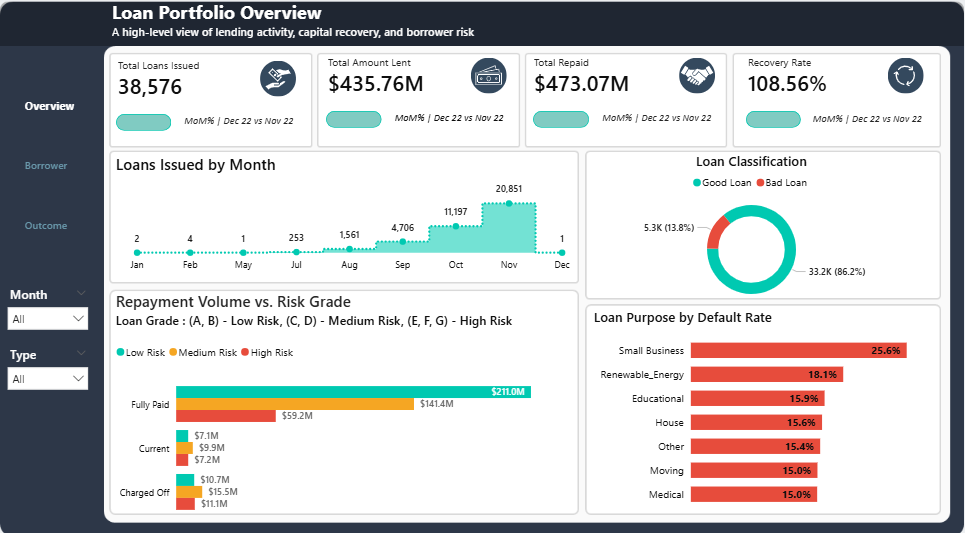

What the dashboard file says about the page in this screenshot:
{"tool":"powerbi","page":{"name":"Overview ","canvas":[1280,720],"ordinal":0},"visuals":[{"type":"cardVisual","fields":{"Data":["_Measures.Total Amount Lent"]},"box":[420.5,70.6,268.6,125.3],"z":0,"group":"g1"},{"type":"group","id":"g1","title":"Group 4","box":[420.5,70.6,268.6,125.3],"z":0,"group":"g2"},{"type":"group","id":"g2","title":"Amount Lent","box":[420.5,70.6,269.3,125.3],"z":0},{"type":"group","id":"g3","title":"Group 4","box":[689.8,70.6,271.5,125.7],"z":0,"group":"g12"},{"type":"cardVisual","fields":{"Data":["_Measures.Total Repaid"]},"box":[689.8,70.6,271.3,125.3],"z":0,"group":"g3"},{"type":"cardVisual","fields":{"Data":["_Measures.Recovery Rate"]},"box":[970.6,70.6,264.7,125.7],"z":0,"group":"g4"},{"type":"group","id":"g4","title":"Group 4","box":[970.6,70.6,259.3,125.7],"z":0,"group":"g11"},{"type":"group","id":"g5","title":"Group 4","box":[145.1,74.7,267.1,125.7],"z":0,"group":"g6"},{"type":"cardVisual","fields":{"Data":["_Measures.Total Loans Issued"]},"box":[145.1,74.7,267.2,125.3],"z":0,"group":"g5"},{"type":"shape","box":[435.9,150.6,72.8,21.9],"z":0,"group":"g7"},{"type":"shape","box":[705.4,150.6,73.5,21.9],"z":0,"group":"g8"},{"type":"shape","box":[985.8,150.9,71.7,22],"z":0,"group":"g9"},{"type":"shape","box":[160.4,154.7,72.4,21.9],"z":0,"group":"g10"},{"type":"card","fields":{"Values":["_Measure.Variance Period MoM"]},"box":[521.8,146.6,149.8,29.9],"z":1000,"group":"g1"},{"type":"card","fields":{"Values":["_Measure.Variance Period MoM"]},"box":[792.1,146.6,151.3,29.9],"z":1000,"group":"g3"},{"type":"card","fields":{"Values":["_Measure.Variance Period MoM"]},"box":[1070.4,146.9,147.6,30],"z":1000,"group":"g4"},{"type":"card","fields":{"Values":["_Measure.Amount Lent MoM% Text"]},"box":[434.2,150.6,71.5,26.5],"z":1000,"group":"g7"},{"type":"card","fields":{"Values":["_Measure.Amount Repaid MoM% Text"]},"box":[703.6,150.6,72.2,26.5],"z":1000,"group":"g8"},{"type":"card","fields":{"Values":["_Measure.Variance Period MoM"]},"box":[245.9,150.7,149,29.9],"z":1000,"group":"g5"},{"type":"card","fields":{"Values":["_Measure.Recovery Rate MoM% Text"]},"box":[984.1,150.9,70.5,26.6],"z":1000,"group":"g9"},{"type":"card","fields":{"Values":["_Measure.Issued Loan MoM% Text"]},"box":[158.7,154.7,71.2,26.5],"z":1000,"group":"g10"},{"type":"donutChart","title":"Loan Classification","fields":{"Category":["Loan_Data.Loan Classification"],"Y":["_Measures.Total Loans Issued"]},"box":[742.3,199,498.8,212.1],"z":1000},{"type":"group","id":"g6","title":"Issued Loan","box":[145.1,74.7,267.1,125.7],"z":2000},{"type":"group","id":"g7","title":"Group 1","box":[434.2,150.6,74,26.5],"z":2000,"group":"g1"},{"type":"group","id":"g8","title":"Group 1","box":[703.6,150.6,74.7,26.5],"z":2000,"group":"g3"},{"type":"group","id":"g9","title":"Group 1","box":[984.1,150.9,72.9,26.6],"z":2000,"group":"g4"},{"type":"group","id":"g10","title":"Group 1","box":[158.7,154.7,73.6,26.5],"z":2000,"group":"g5"},{"type":"areaChart","fields":{"Category":["Dim_Date.Month Short"],"Y":["_Measures.Total Loans Issued"]},"box":[154.1,200.2,622.1,169.9],"z":3000},{"type":"group","id":"g11","title":"Recovery Rate","box":[970.6,70.6,259.2,125.3],"z":4000},{"type":"clusteredBarChart","title":"Repayment Volume vs. Risk Grade","fields":{"Category":["Loan_Data.loan_status"],"Series":["Table.Risk Sort"],"Y":["_Measures.Total Repaid"]},"box":[155,379.6,602.2,323.3],"z":5000},{"type":"group","id":"g12","title":"Total Repaid","box":[689.8,70.6,272.2,125.3],"z":6000},{"type":"clusteredBarChart","title":"Loan Purpose by Default Rate","fields":{"Category":["Loan_Data.loan_purpose"],"Y":["_Measures.Bad Loans %"]},"box":[780,403.2,466,277.5],"z":7000},{"type":"pageNavigator","box":[5.8,113.8,131,214.6],"z":8000},{"type":"slicer","fields":{"Values":["Dim_Date.Month Short"]},"box":[13,380.2,115.2,60.5],"z":9000},{"type":"slicer","fields":{"Values":["Loan_Data.Loan Classification"]},"box":[13,457.9,115.2,60.5],"z":10000},{"type":"textbox","box":[154.1,4.3,505.4,31.7],"z":11000},{"type":"textbox","box":[155,36,722.9,31.7],"z":12000}]}

Visuals, with their boxes on the page's 1280x720 design canvas (x1, y1, x2, y2). These are canvas units, not pixel positions in the 965x533 screenshot, which may show the page scaled, cropped or inside an application window:
cardVisual - _Measures.Total Amount Lent: (x1=420, y1=71, x2=689, y2=196)
"Group 4" group: (x1=420, y1=71, x2=689, y2=196)
"Amount Lent" group: (x1=420, y1=71, x2=690, y2=196)
"Group 4" group: (x1=690, y1=71, x2=961, y2=196)
cardVisual - _Measures.Total Repaid: (x1=690, y1=71, x2=961, y2=196)
cardVisual - _Measures.Recovery Rate: (x1=971, y1=71, x2=1235, y2=196)
"Group 4" group: (x1=971, y1=71, x2=1230, y2=196)
"Group 4" group: (x1=145, y1=75, x2=412, y2=200)
cardVisual - _Measures.Total Loans Issued: (x1=145, y1=75, x2=412, y2=200)
shape: (x1=436, y1=151, x2=509, y2=172)
shape: (x1=705, y1=151, x2=779, y2=172)
shape: (x1=986, y1=151, x2=1058, y2=173)
shape: (x1=160, y1=155, x2=233, y2=177)
card - _Measure.Variance Period MoM: (x1=522, y1=147, x2=672, y2=176)
card - _Measure.Variance Period MoM: (x1=792, y1=147, x2=943, y2=176)
card - _Measure.Variance Period MoM: (x1=1070, y1=147, x2=1218, y2=177)
card - _Measure.Amount Lent MoM% Text: (x1=434, y1=151, x2=506, y2=177)
card - _Measure.Amount Repaid MoM% Text: (x1=704, y1=151, x2=776, y2=177)
card - _Measure.Variance Period MoM: (x1=246, y1=151, x2=395, y2=181)
card - _Measure.Recovery Rate MoM% Text: (x1=984, y1=151, x2=1055, y2=178)
card - _Measure.Issued Loan MoM% Text: (x1=159, y1=155, x2=230, y2=181)
"Loan Classification" donutChart: (x1=742, y1=199, x2=1241, y2=411)
"Issued Loan" group: (x1=145, y1=75, x2=412, y2=200)
"Group 1" group: (x1=434, y1=151, x2=508, y2=177)
"Group 1" group: (x1=704, y1=151, x2=778, y2=177)
"Group 1" group: (x1=984, y1=151, x2=1057, y2=178)
"Group 1" group: (x1=159, y1=155, x2=232, y2=181)
areaChart - Dim_Date.Month Short x _Measures.Total Loans Issued: (x1=154, y1=200, x2=776, y2=370)
"Recovery Rate" group: (x1=971, y1=71, x2=1230, y2=196)
"Repayment Volume vs. Risk Grade" clusteredBarChart: (x1=155, y1=380, x2=757, y2=703)
"Total Repaid" group: (x1=690, y1=71, x2=962, y2=196)
"Loan Purpose by Default Rate" clusteredBarChart: (x1=780, y1=403, x2=1246, y2=681)
pageNavigator: (x1=6, y1=114, x2=137, y2=328)
slicer - Dim_Date.Month Short: (x1=13, y1=380, x2=128, y2=441)
slicer - Loan_Data.Loan Classification: (x1=13, y1=458, x2=128, y2=518)
textbox: (x1=154, y1=4, x2=660, y2=36)
textbox: (x1=155, y1=36, x2=878, y2=68)
